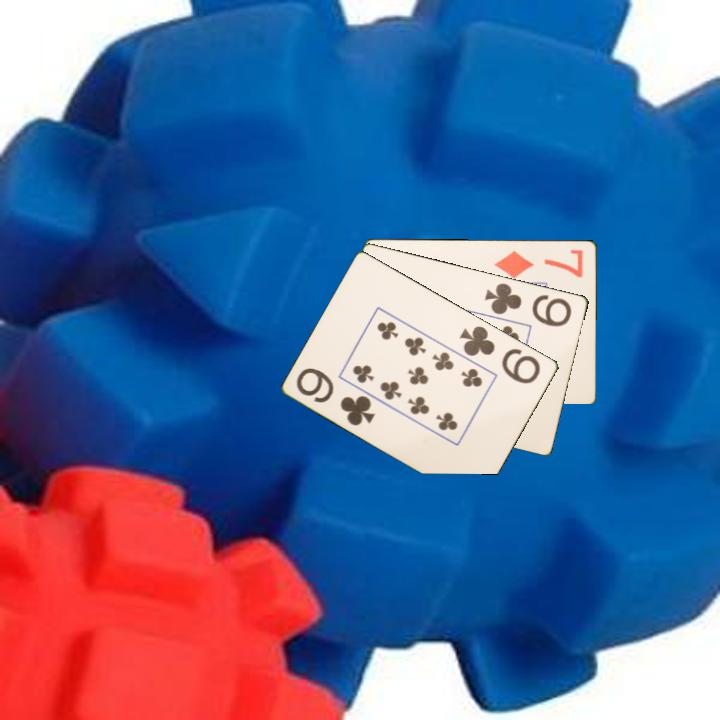7d: (491, 246, 586, 281)
9c: (456, 322, 544, 387), (293, 364, 378, 429), (481, 279, 575, 329)
